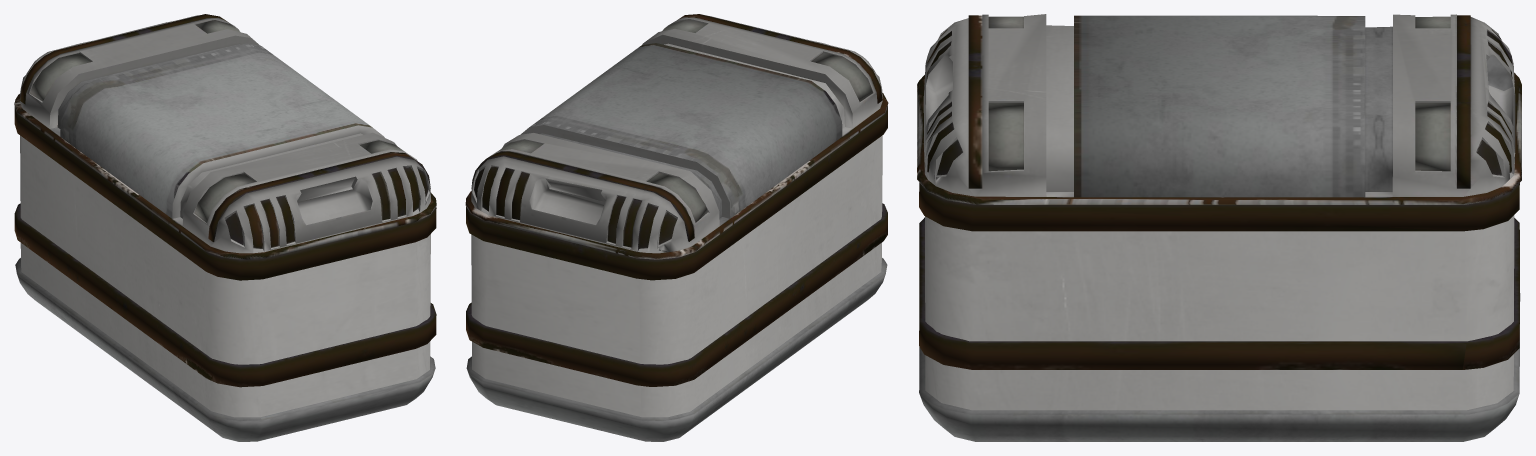
Rendered from LootBox w_T.fbx.
3 renders of one model, left to right at view 1: azimuth 30°, elevation 25°; view 2: azimuth 150°, elevation 25°; view 3: azimuth 270°, elevation 25°, orthographic. The views are drawn at different scales.
Parts seen in each view (by area): view 1: Sci-Fi Box Large; view 2: Sci-Fi Box Large; view 3: Sci-Fi Box Large.
Boxes of the visible parts, bbox=[...] form: Sci-Fi Box Large: bbox=[14, 14, 436, 441]; Sci-Fi Box Large: bbox=[465, 14, 888, 441]; Sci-Fi Box Large: bbox=[917, 14, 1521, 441].
Size of the model in its own units: 135 by 140 by 239.
Materials: 1 (1 with a texture image).
